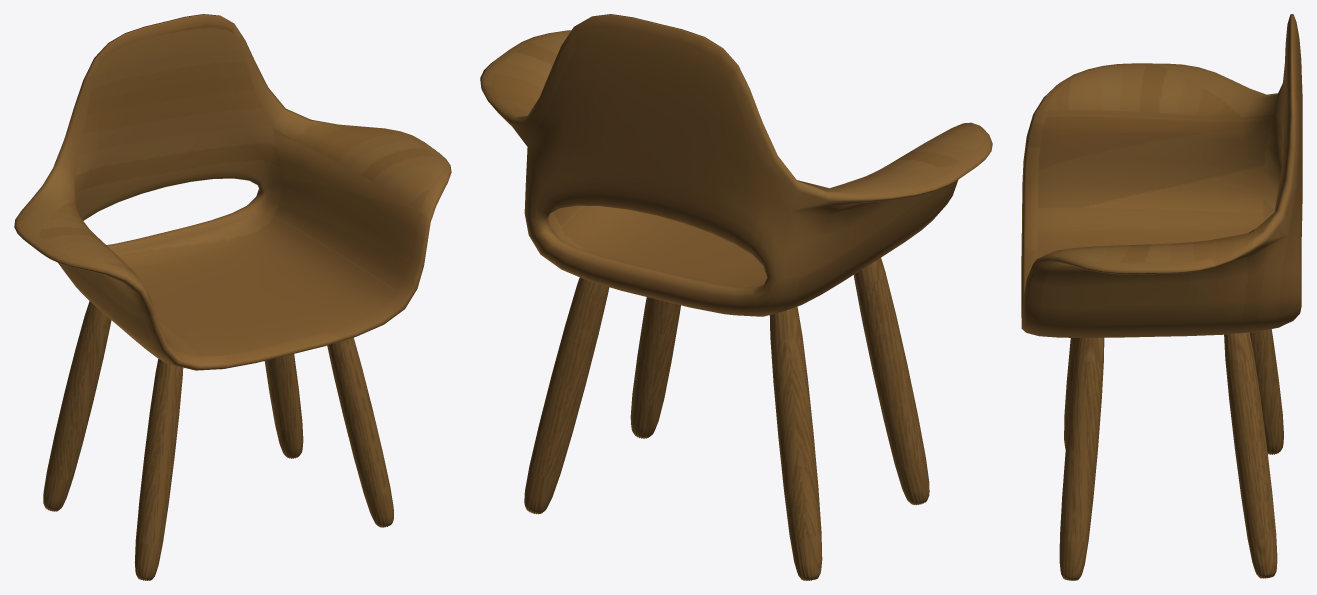
The model's file is organic chair.fbx.
3 views of the same model, side by side, from view 1: azimuth 30°, elevation 25°; view 2: azimuth 150°, elevation 25°; view 3: azimuth 270°, elevation 25° (orthographic). The views are drawn at different scales.
Visible parts, largest first — view 1: pasted__polySurface1, pasted__polySurface5; view 2: pasted__polySurface1, pasted__polySurface5; view 3: pasted__polySurface1, pasted__polySurface5.
Part boxes in pixels (bbox=[...]): pasted__polySurface1: bbox=[14, 14, 451, 370]; pasted__polySurface5: bbox=[43, 301, 393, 580]; pasted__polySurface1: bbox=[480, 14, 992, 316]; pasted__polySurface5: bbox=[524, 258, 929, 580]; pasted__polySurface1: bbox=[1021, 14, 1302, 337]; pasted__polySurface5: bbox=[1059, 329, 1283, 580].
Bounding box in the file's own units: 66.26 × 71.98 × 37.87.
